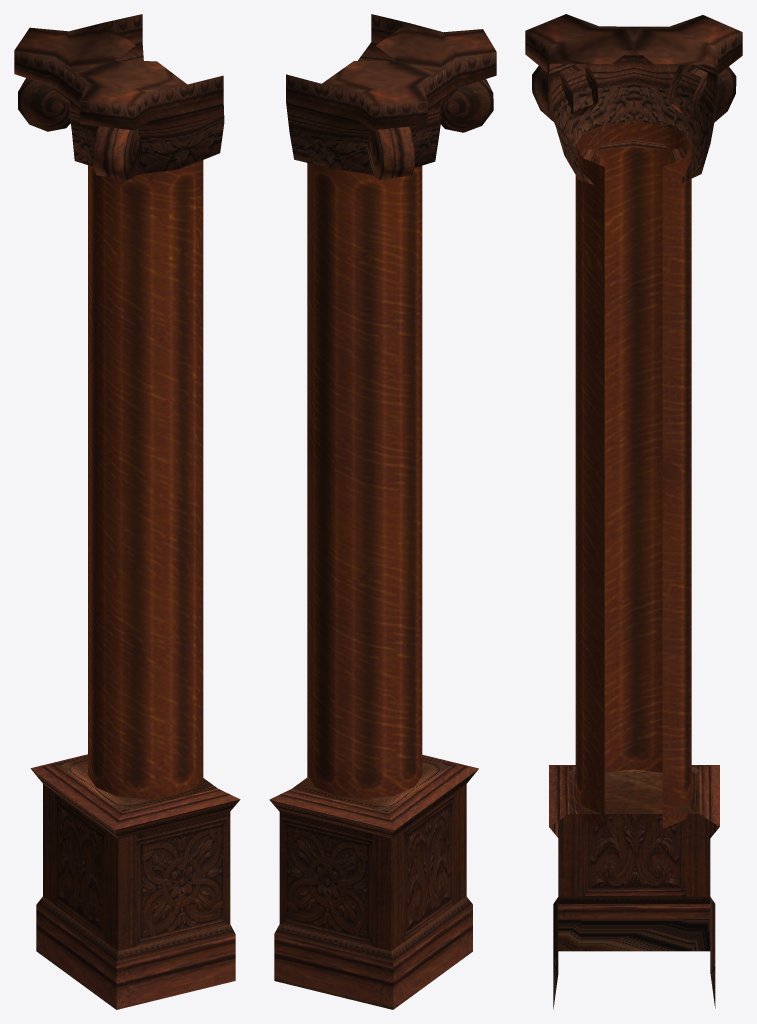
Rendered from ColumncylinderstrHalf.fbx.
3 views of the same model, side by side, from view 1: azimuth 30°, elevation 25°; view 2: azimuth 150°, elevation 25°; view 3: azimuth 270°, elevation 25° (orthographic).
Visible parts, largest first — view 1: StraightColumnHalf_LOD0; view 2: StraightColumnHalf_LOD0; view 3: StraightColumnHalf_LOD0.
Part boxes in pixels (x1,y1,x2,y2): StraightColumnHalf_LOD0: (14,14,240,1009); StraightColumnHalf_LOD0: (269,14,496,1009); StraightColumnHalf_LOD0: (525,14,742,1009).
Size of the model in its own units: 36.6 by 210 by 44.82.
